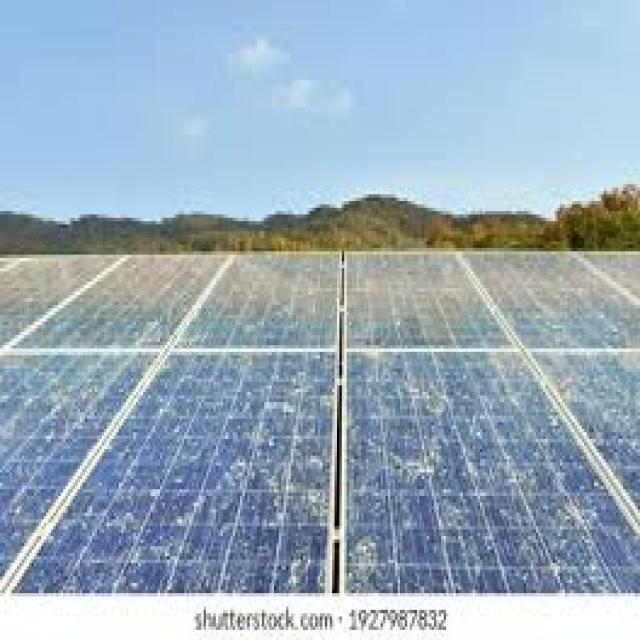Dusty: (21, 347, 338, 586), (352, 347, 634, 592), (1, 359, 147, 583), (17, 252, 225, 350), (180, 253, 343, 348), (349, 253, 511, 343), (478, 256, 637, 334), (550, 353, 631, 489), (5, 252, 108, 345)
